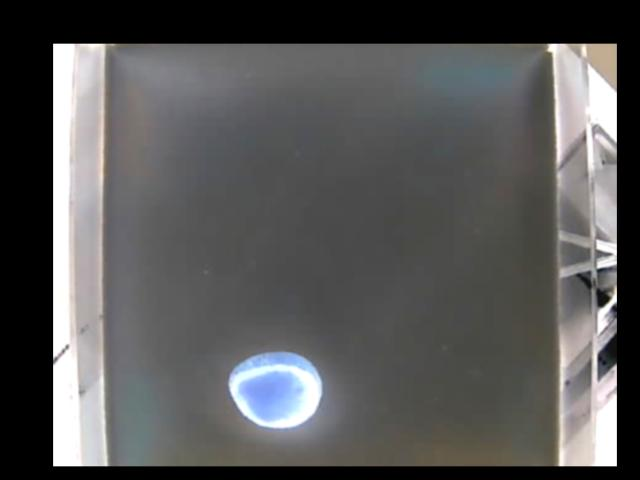Potato: (226, 349, 324, 430)
